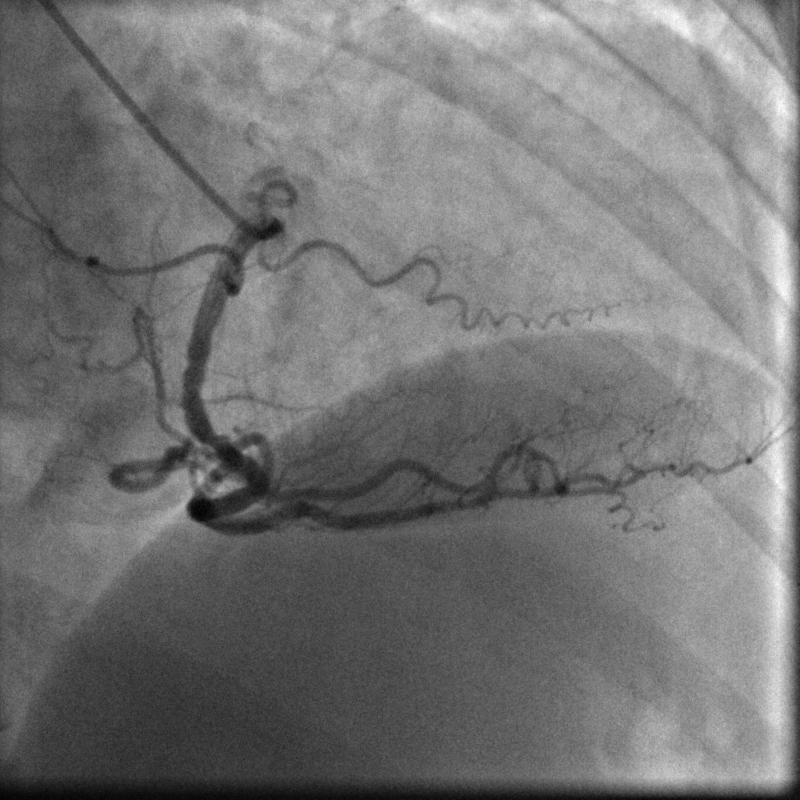Stenosis: (185, 416, 237, 452)
